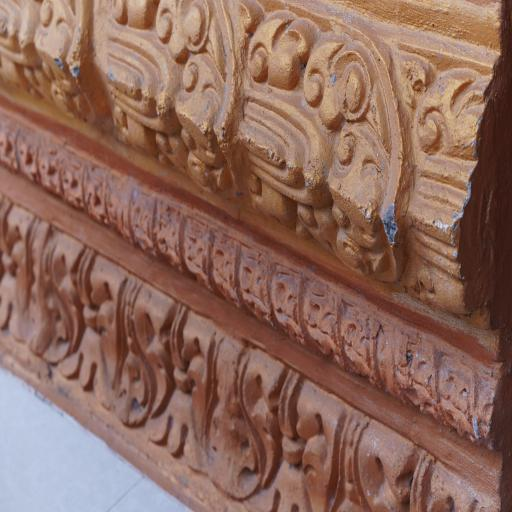la: (249, 0, 408, 294), (95, 0, 251, 199), (179, 294, 279, 501), (288, 389, 416, 512), (88, 255, 176, 429), (2, 207, 84, 376), (4, 0, 96, 126), (420, 457, 497, 512)
